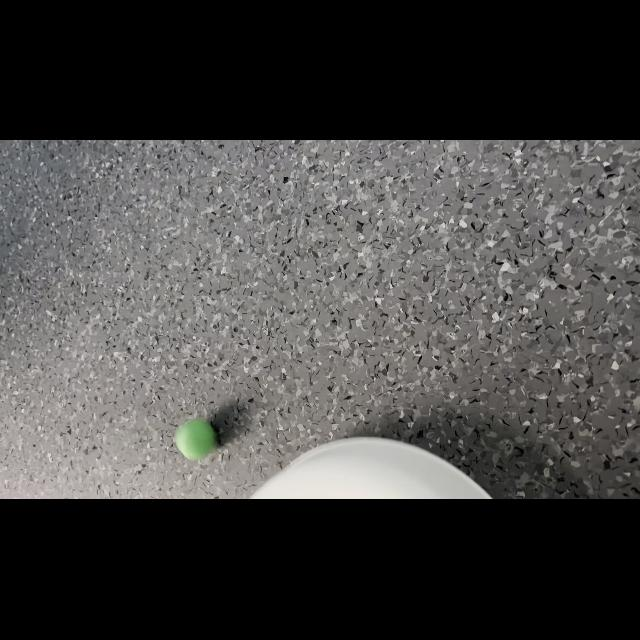objects: (173, 412, 221, 463)
